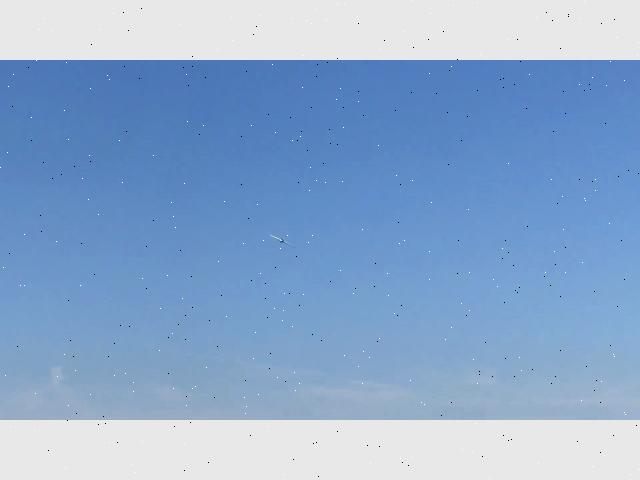Anti-Drone: (248, 218, 306, 258)
